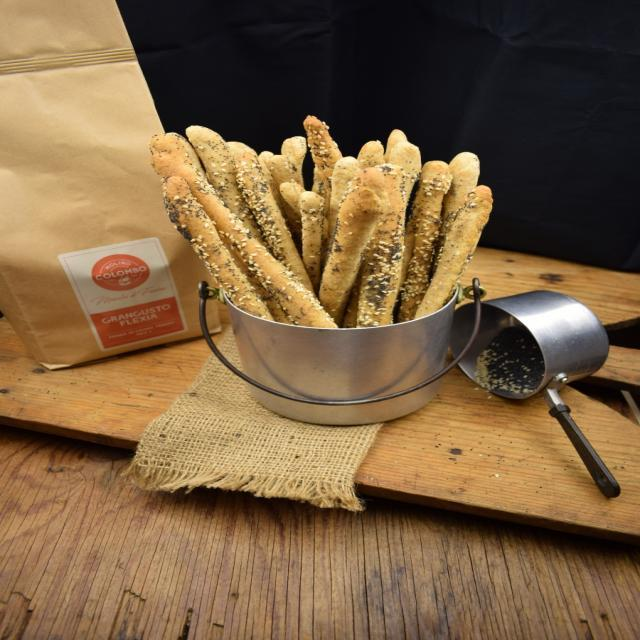Grissini: (155, 115, 491, 327)
